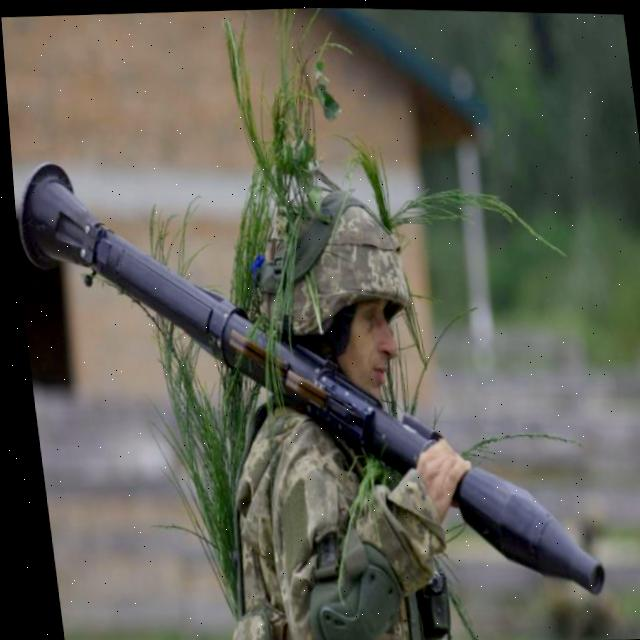rocket: (8, 132, 619, 619)
